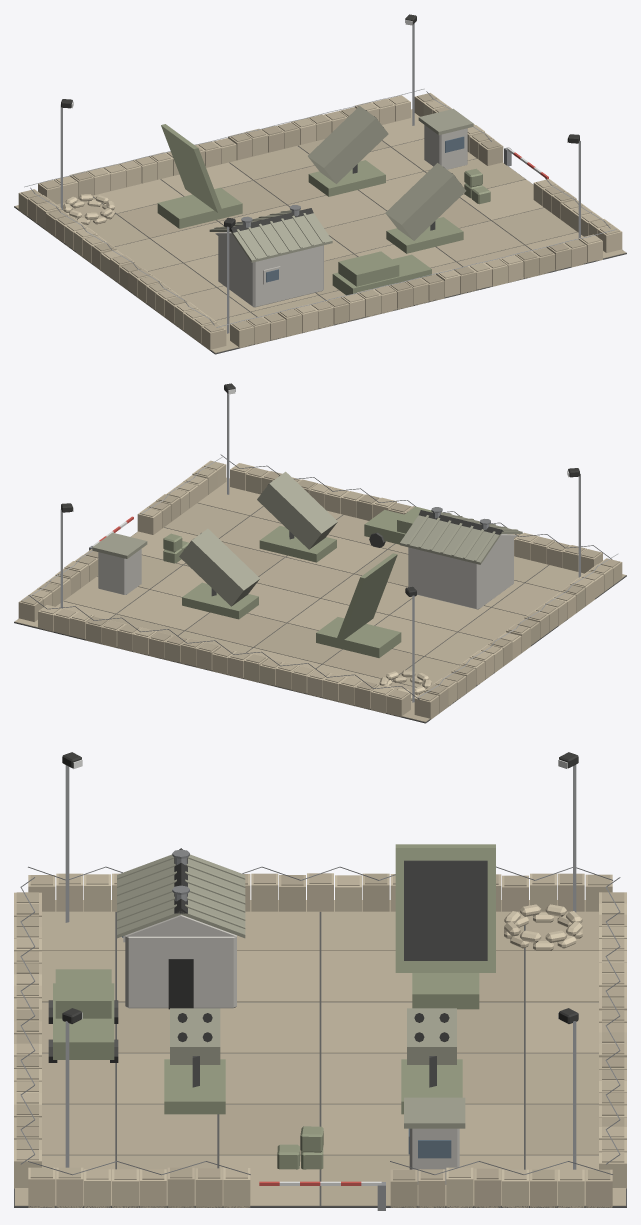
File: b_arrowsite.glb
3 renders of one model, top to bottom at view 1: azimuth 30°, elevation 25°; view 2: azimuth 150°, elevation 25°; view 3: azimuth 270°, elevation 25°, orthographic. The views are drawn at different scales.
Parts seen in each view (by area): view 1: hull; view 2: hull; view 3: hull.
Boxes of the visible parts, x1,y1,x2,y2 form: hull: (14,14,626,354); hull: (14,383,626,723); hull: (14,752,626,1210).
Bounding box in the file's own units: 26.25 × 6.78 × 22.
